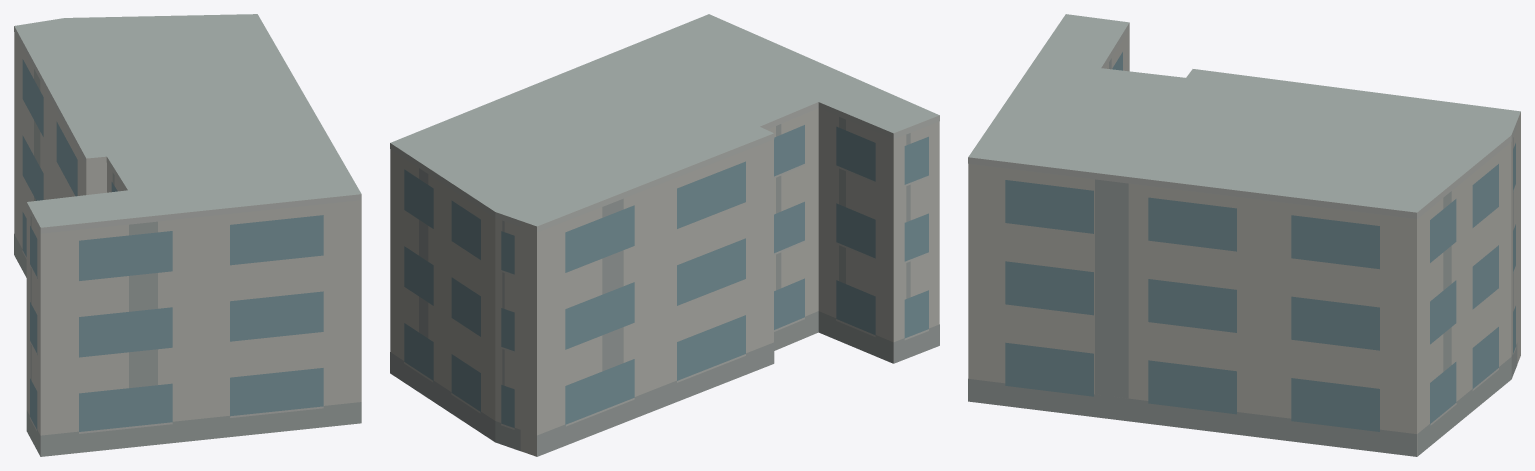
Rendered from survey-upis-32506494.glb.
3 views of the same model, side by side, from view 1: azimuth 30°, elevation 25°; view 2: azimuth 150°, elevation 25°; view 3: azimuth 270°, elevation 25° (orthographic). The views are drawn at different scales.
Parts seen in each view (by area): view 1: survey-upis-32506494.tmp; view 2: survey-upis-32506494.tmp; view 3: survey-upis-32506494.tmp.
Part boxes in pixels (x1=…): survey-upis-32506494.tmp: x1=14, y1=14, x2=361, y2=456; survey-upis-32506494.tmp: x1=390, y1=14, x2=939, y2=456; survey-upis-32506494.tmp: x1=968, y1=14, x2=1520, y2=456.
Bounding box in the file's own units: 15.97 × 9.15 × 18.78.
